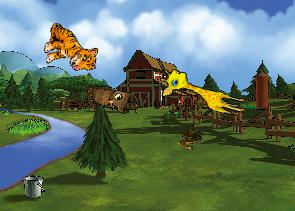giraffe: (156, 65, 250, 118)
owl: (85, 86, 132, 114)
tiger: (41, 22, 100, 73)
